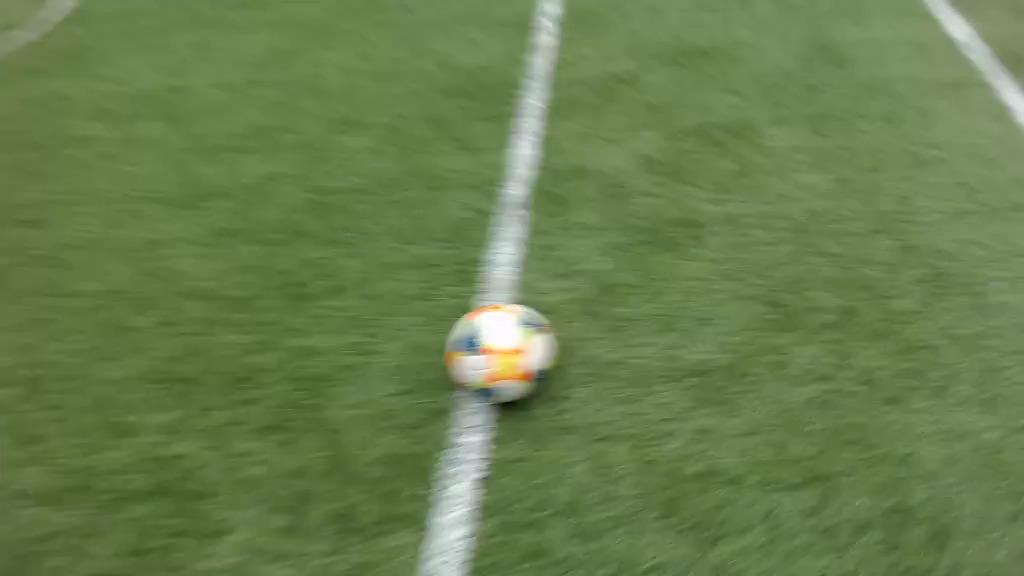ball: (442, 306, 558, 402)
